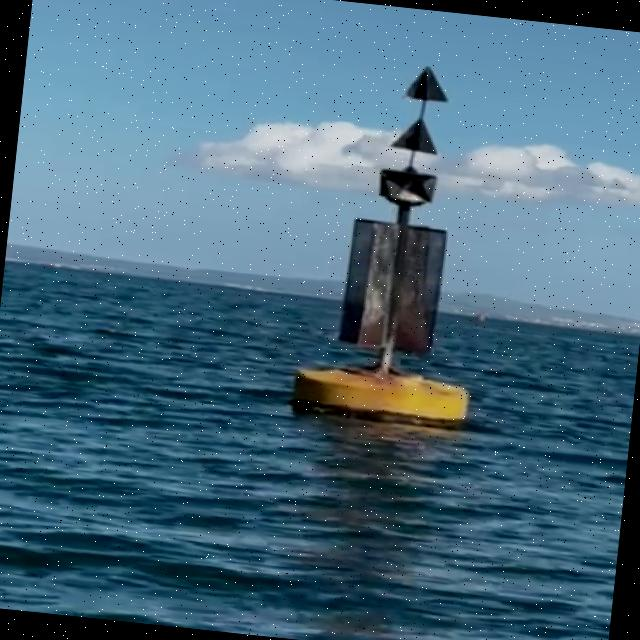marque: (287, 59, 519, 436)
